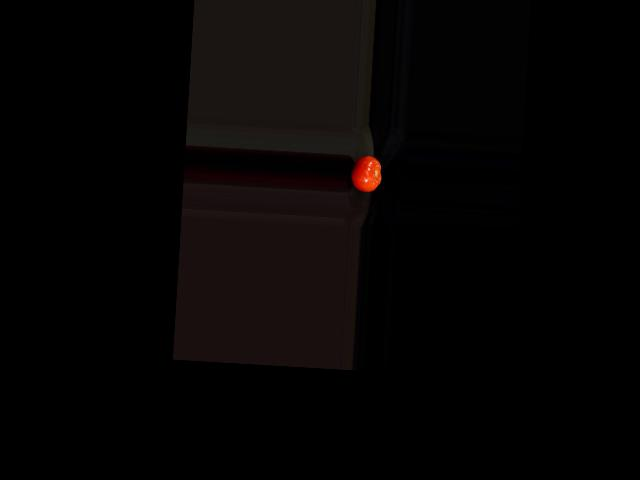tomato: (349, 154, 382, 193)
